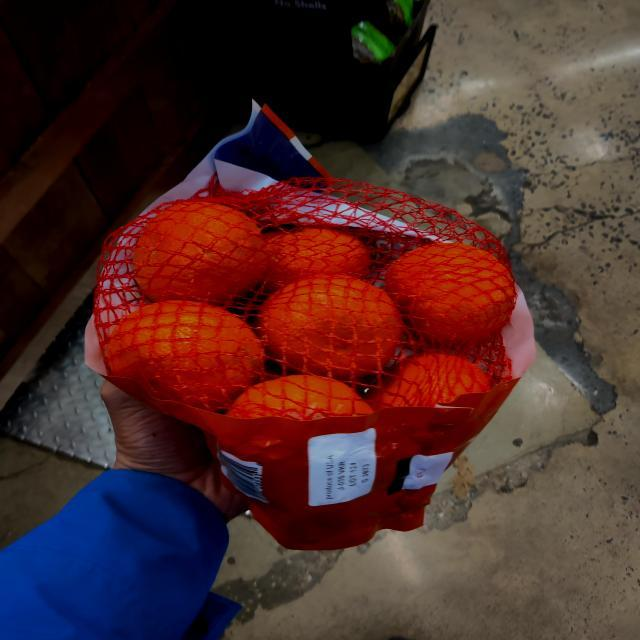Orange: (90, 107, 528, 540)
